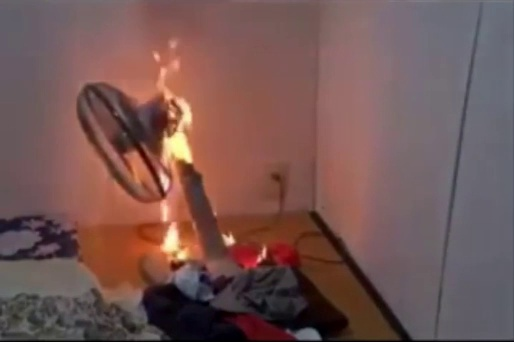fire: (151, 54, 197, 172)
